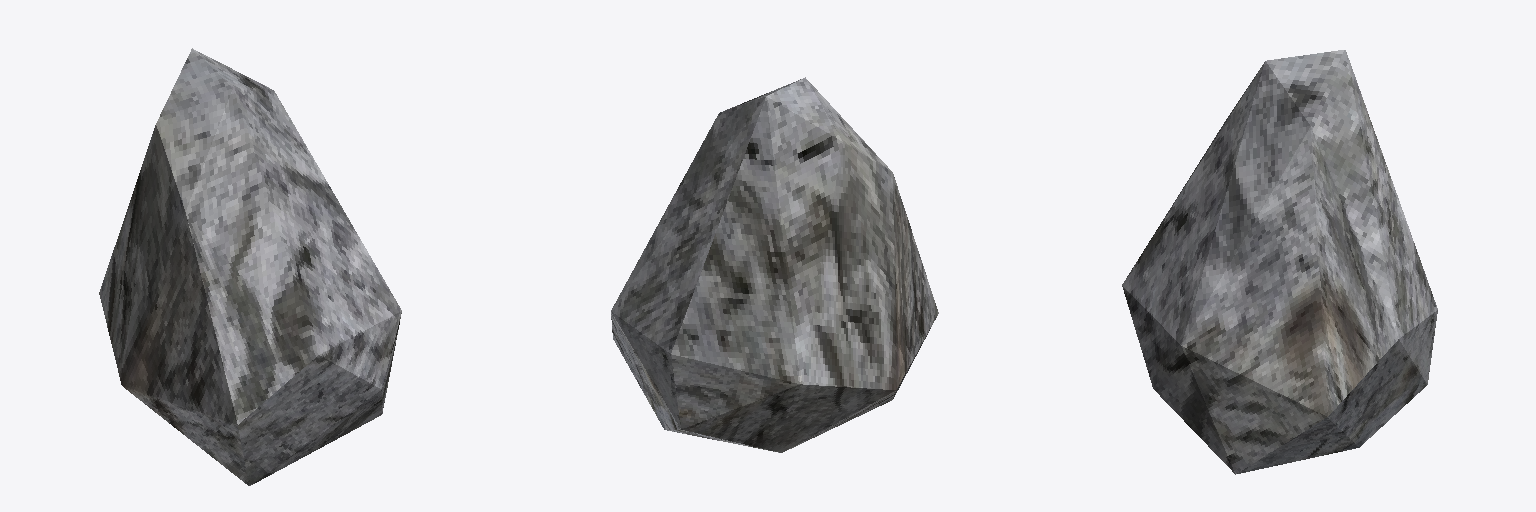
3 views of the same model, side by side, from view 1: azimuth 30°, elevation 25°; view 2: azimuth 150°, elevation 25°; view 3: azimuth 270°, elevation 25° (orthographic).
Parts seen in each view (by area): view 1: rockhigh8; view 2: rockhigh8; view 3: rockhigh8.
Boxes of the visible parts, <box> form: rockhigh8: <box>99,48,401,485</box>; rockhigh8: <box>611,77,938,452</box>; rockhigh8: <box>1122,50,1437,474</box>.
Bounding box in the file's own units: 1.78 × 2.48 × 1.85.
Materials: 1 (1 with a texture image).